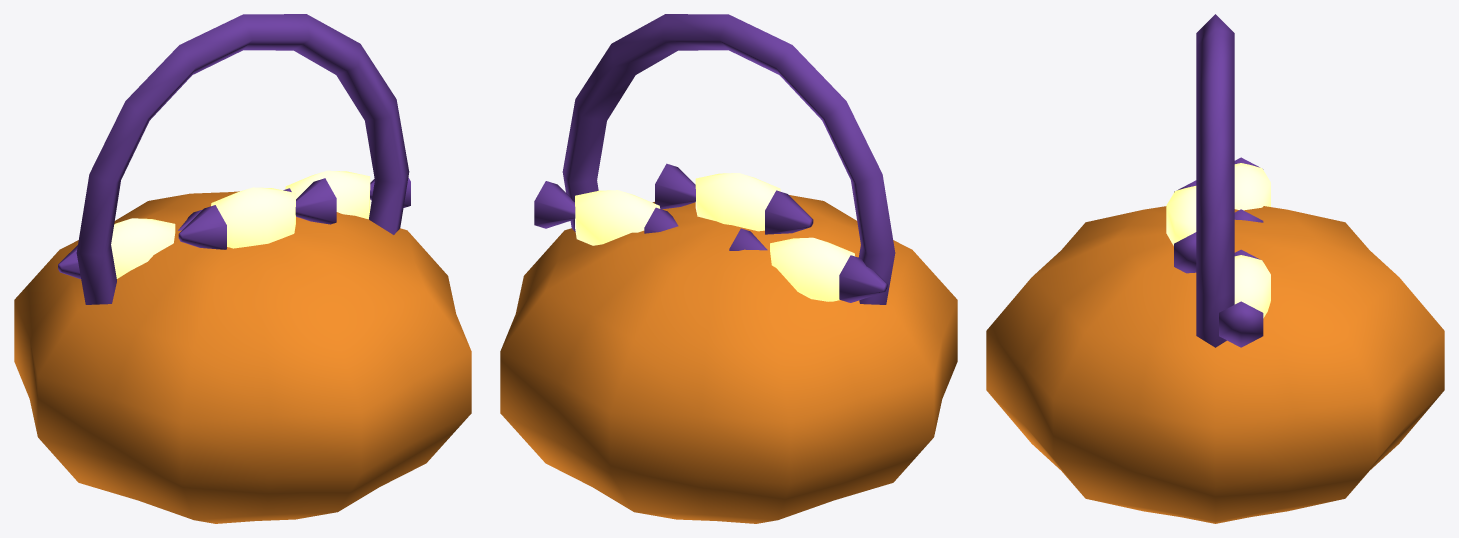
File: candy_basket.glb
3 renders of one model, left to right at view 1: azimuth 30°, elevation 25°; view 2: azimuth 150°, elevation 25°; view 3: azimuth 270°, elevation 25°, orthographic. The views are drawn at different scales.
Size of the model in its own units: 0.3576 by 0.4 by 0.3576.
